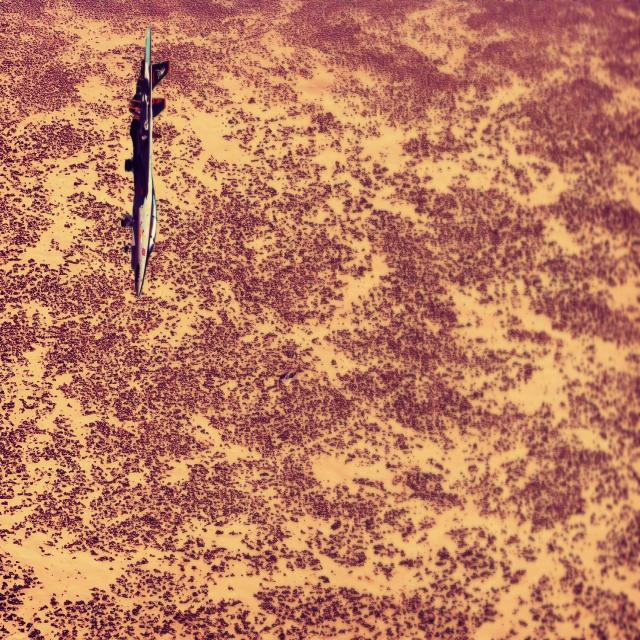airplane: (120, 26, 170, 298)
